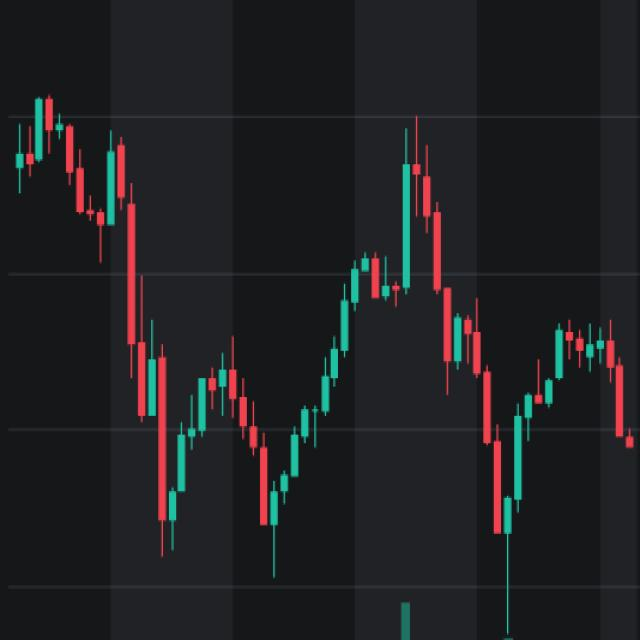Head-Shoulders: (280, 99, 507, 528)
